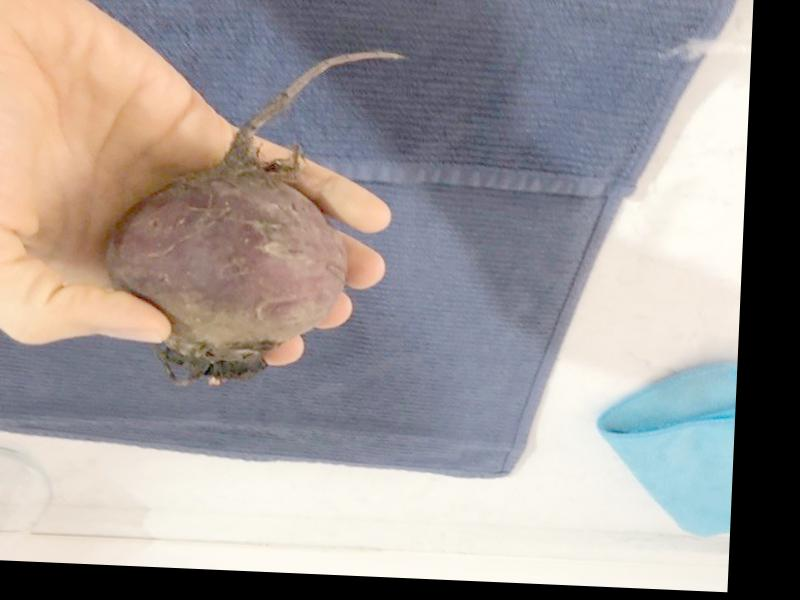Beet: (97, 39, 408, 393)
